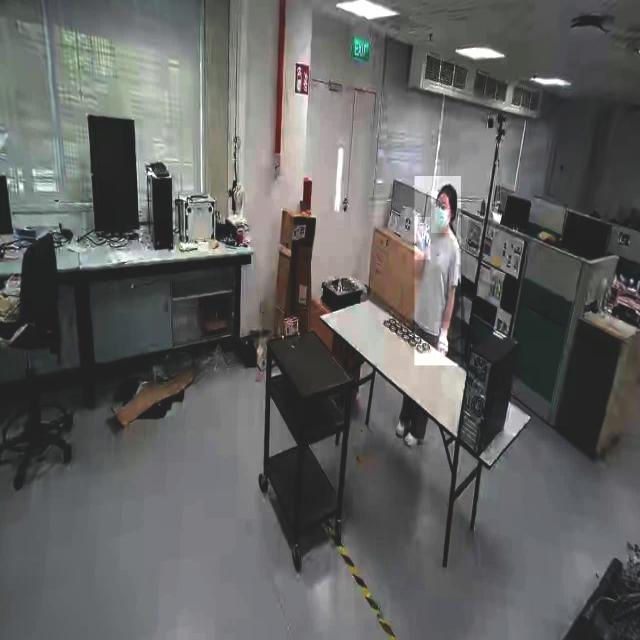face_mask: (431, 191, 451, 233)
glasses: (432, 198, 449, 216)
hand_glove: (414, 217, 430, 259), (434, 322, 452, 356)
head_nohelmet: (435, 182, 457, 201)
person: (414, 176, 462, 366)
